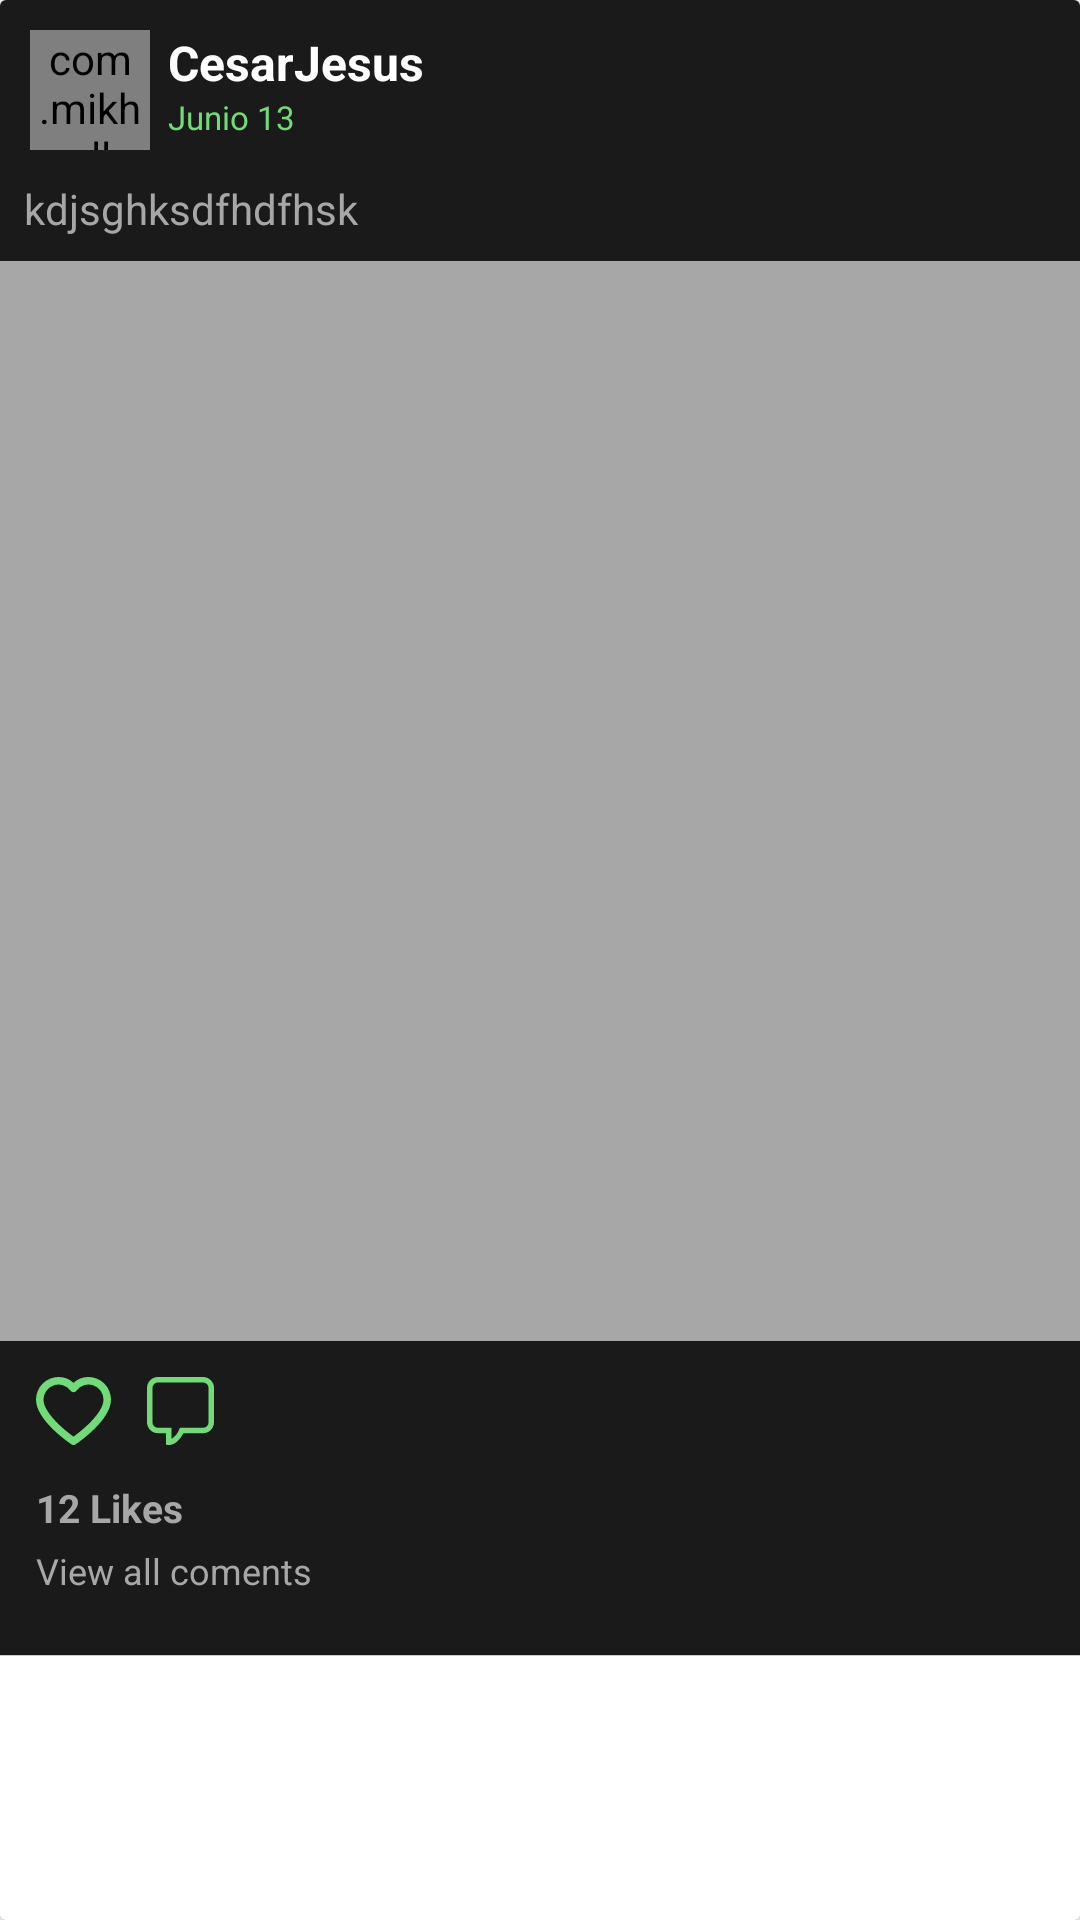

Point at icon controls on the screen. Image size 1080×1920, points as (x,y).
comentarios: (180,1411)
corazon: (73,1411)
